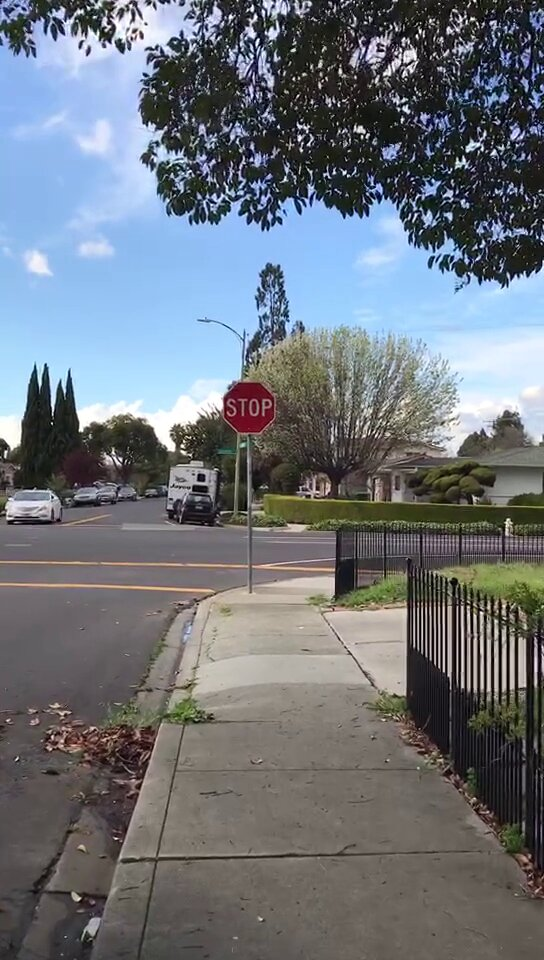stop_sign: (222, 383, 276, 435)
